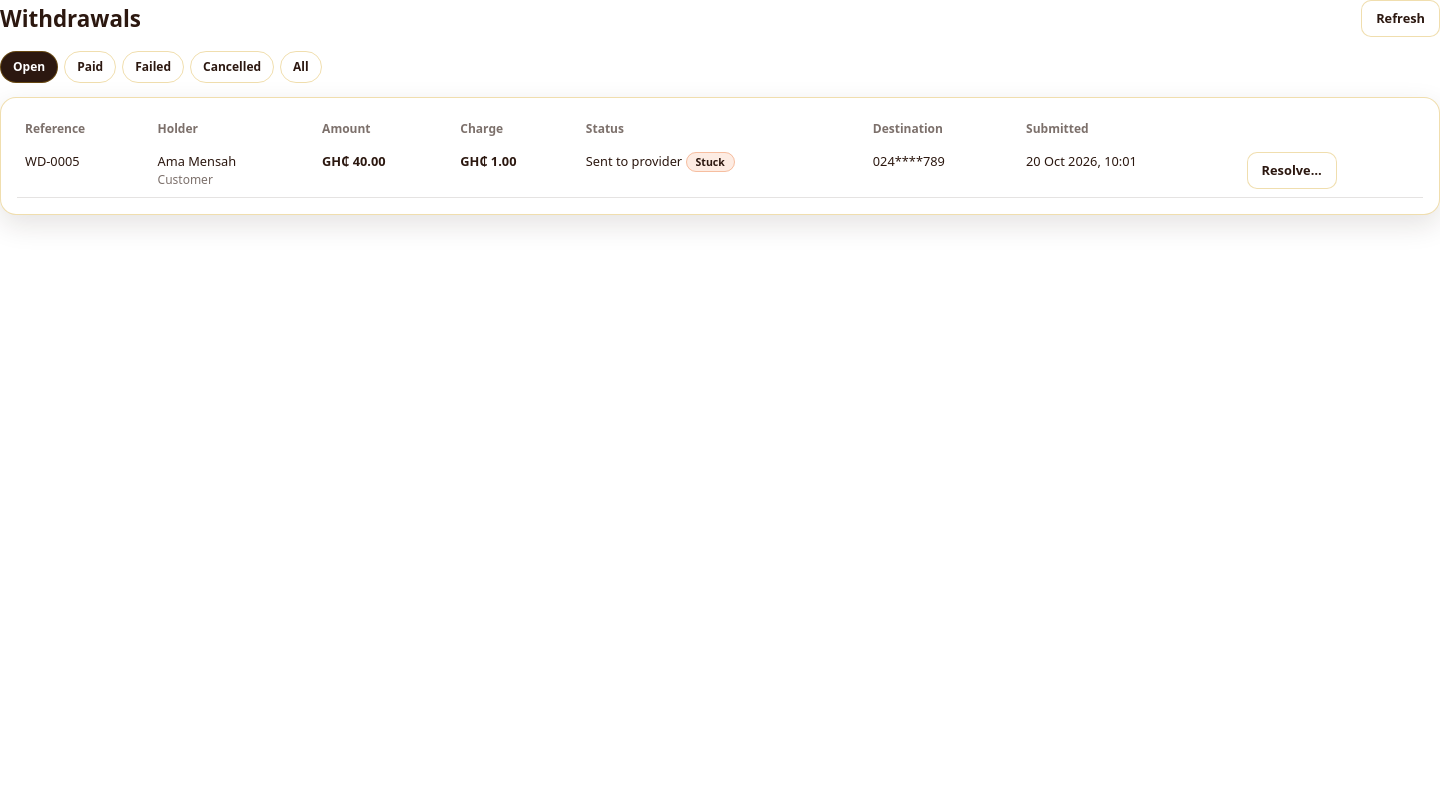
Test: Staff withdrawals queue › test_each_refusal_code_shows_its_server_detail (provider_answered)
This screenshot has width=1440, height=810.
Click the button "Resolve…" at (1292, 171), box [1247,152,1337,189]
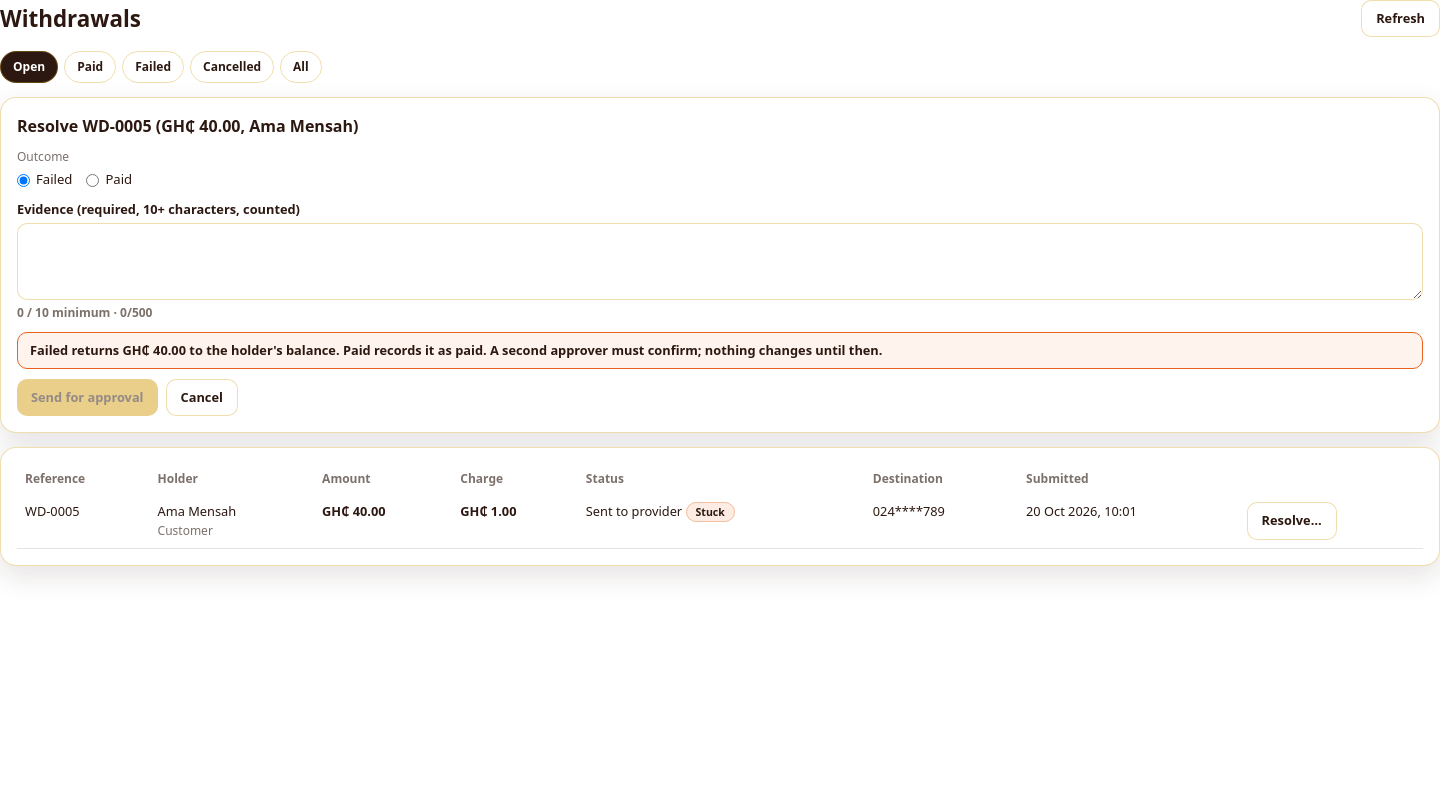
Type "Hubtel statement shows no payout for WD-0005" into the text box labelled "Evidence" at (720, 262), box [17,223,1423,300]
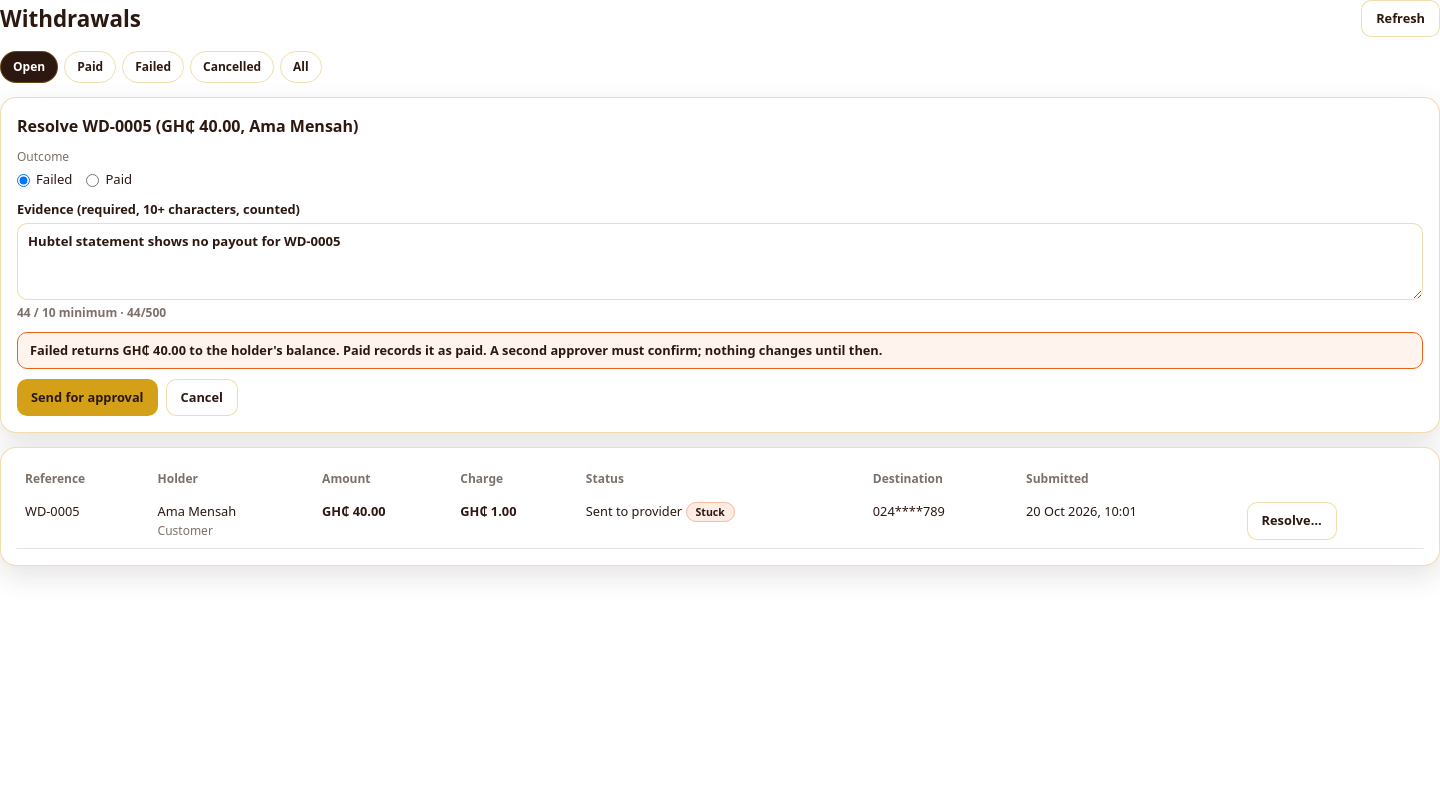
Click the button "Send for approval" at (87, 398), box [17,379,158,416]
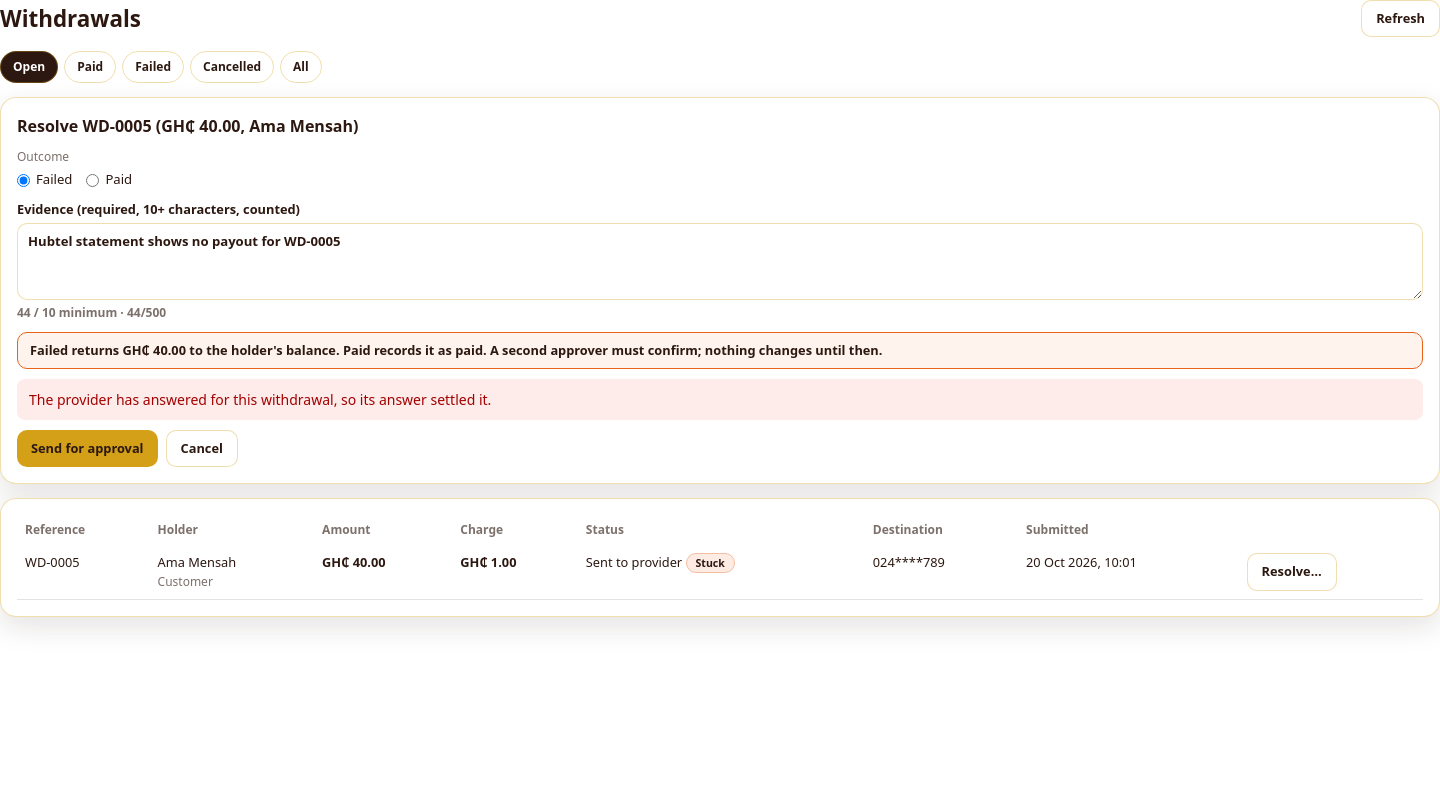
Check: the message reads "The provider has answered for this withdrawal, so its answer settled it.", box [29,390,491,409]
